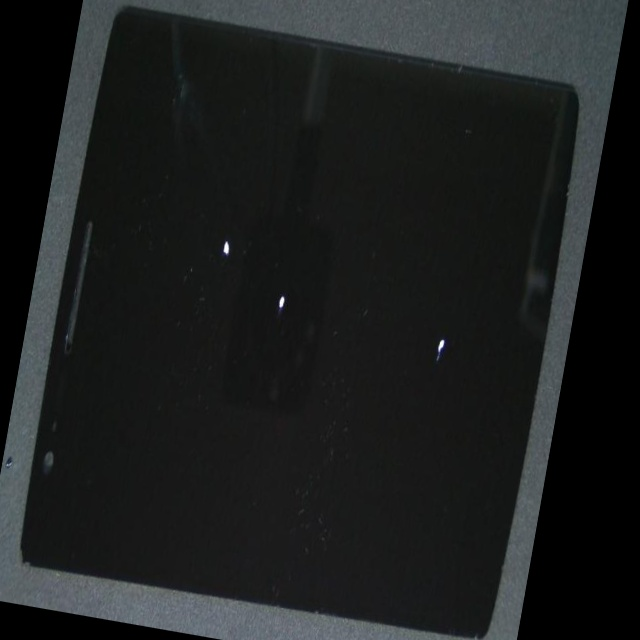stain: (235, 105, 601, 511), (73, 24, 331, 438), (156, 114, 449, 475)
